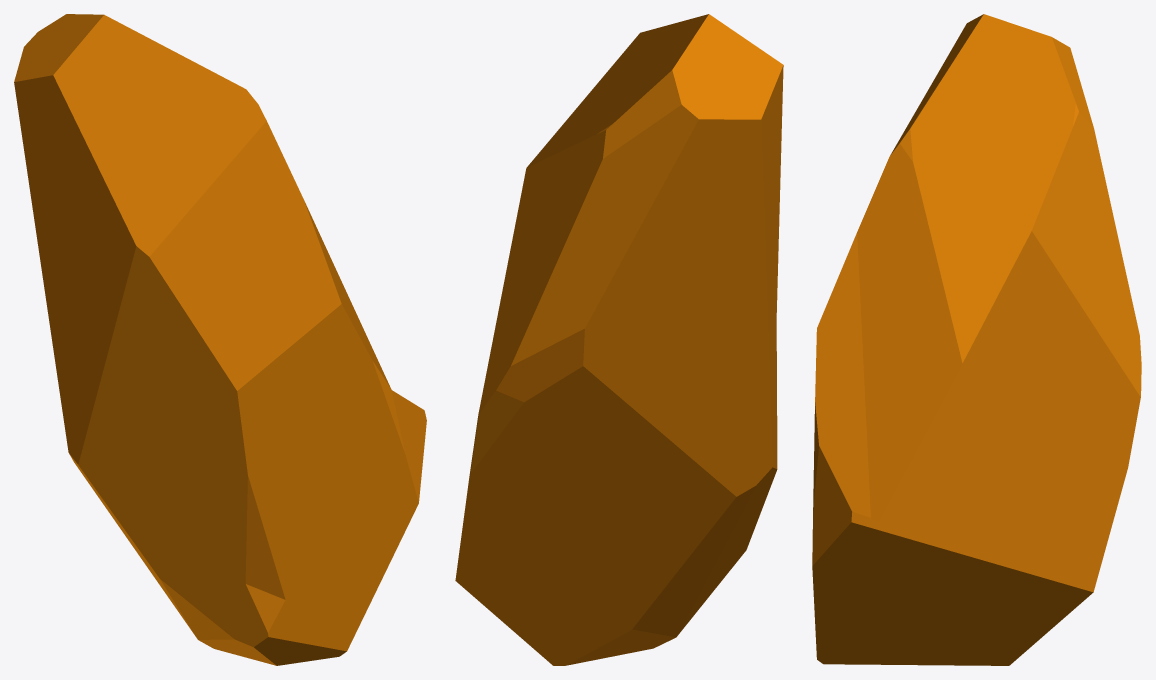
File: rock4.fbx
3 views of the same model, side by side, from view 1: azimuth 30°, elevation 25°; view 2: azimuth 150°, elevation 25°; view 3: azimuth 270°, elevation 25° (orthographic). The views are drawn at different scales.
Visible parts, largest first — view 1: Icosphere.004; view 2: Icosphere.004; view 3: Icosphere.004.
Part boxes in pixels (box(x1,y1,x2,y2)): Icosphere.004: box(14, 14, 426, 665); Icosphere.004: box(455, 14, 783, 665); Icosphere.004: box(812, 14, 1141, 665).
Bounding box in the file's own units: 487 × 908 × 458.
